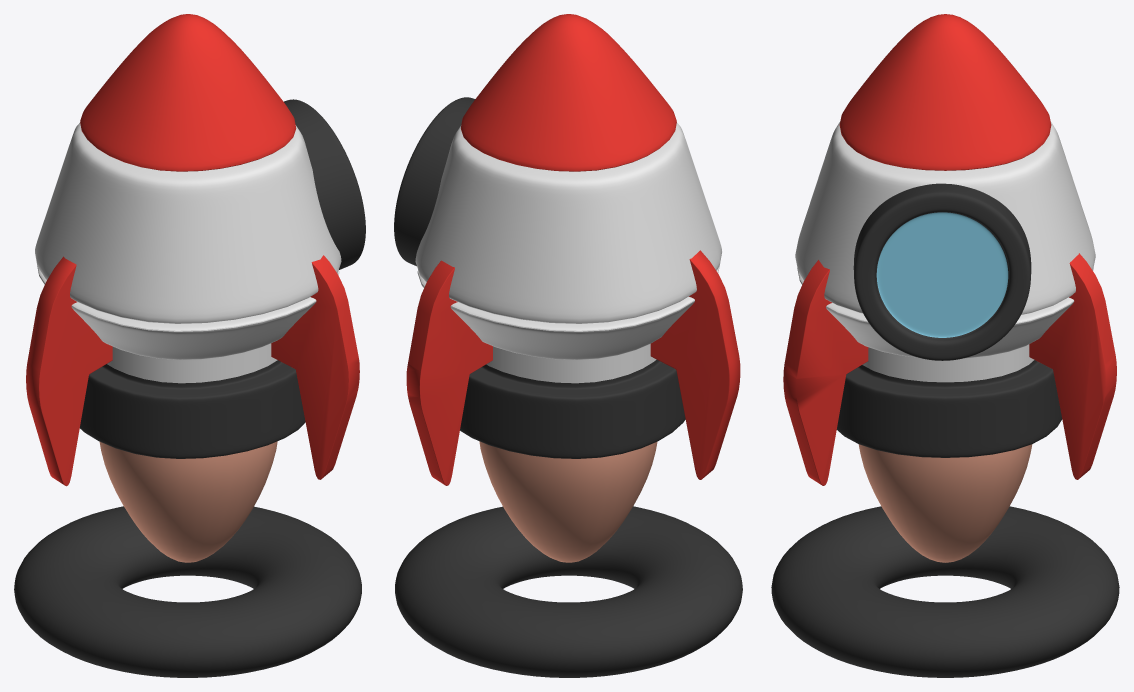
Rendered from roket.fbx.
3 renders of one model, left to right at view 1: azimuth 30°, elevation 25°; view 2: azimuth 150°, elevation 25°; view 3: azimuth 270°, elevation 25°, orthographic.
Parts seen in each view (by area): view 1: Cube.002; view 2: Cube.002; view 3: Cube.002.
Part boxes in pixels (box(x1,y1,x2,y2)): Cube.002: box(14, 14, 365, 677); Cube.002: box(394, 14, 742, 677); Cube.002: box(771, 14, 1119, 677).
Size of the model in its own units: 298 by 549 by 287.
